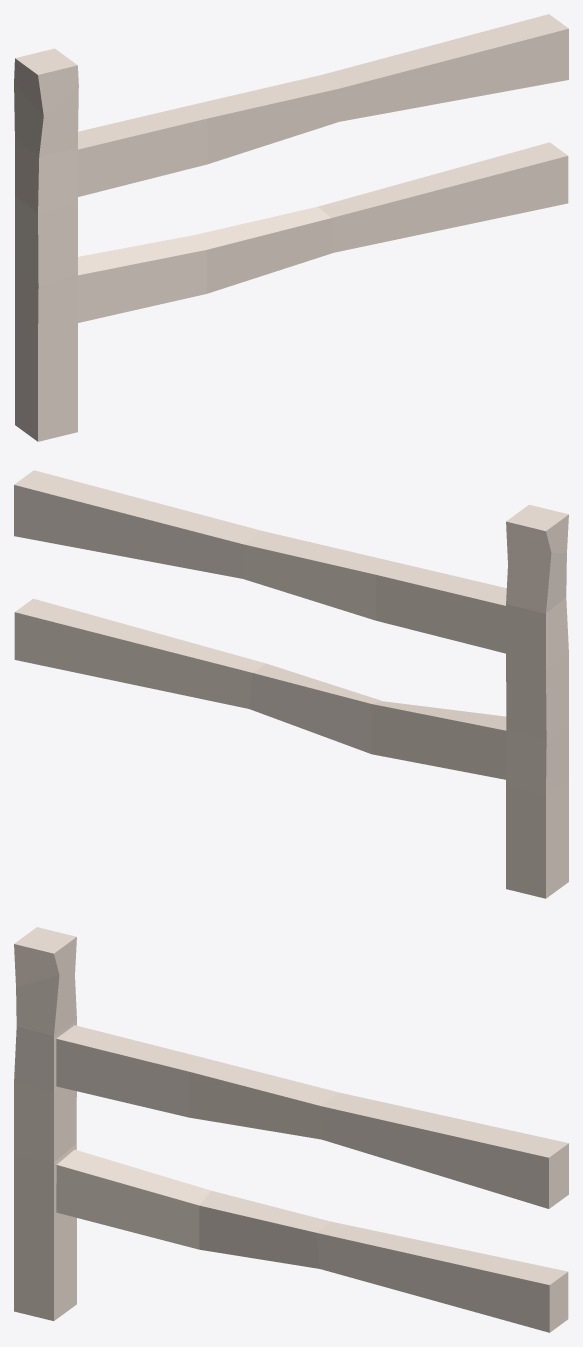
File: Fence_2.fbx
3 renders of one model, top to bottom at view 1: azimuth 30°, elevation 25°; view 2: azimuth 150°, elevation 25°; view 3: azimuth 330°, elevation 25°, orthographic.
Visible parts, largest first — view 1: Cube; view 2: Cube; view 3: Cube.
Boxes of the visible parts, left/top/right/bottom form: Cube: left=14, top=14, right=568, bottom=441; Cube: left=14, top=470, right=568, bottom=898; Cube: left=14, top=927, right=568, bottom=1332.
Size of the model in its own units: 5.15 by 3.37 by 0.4457.
